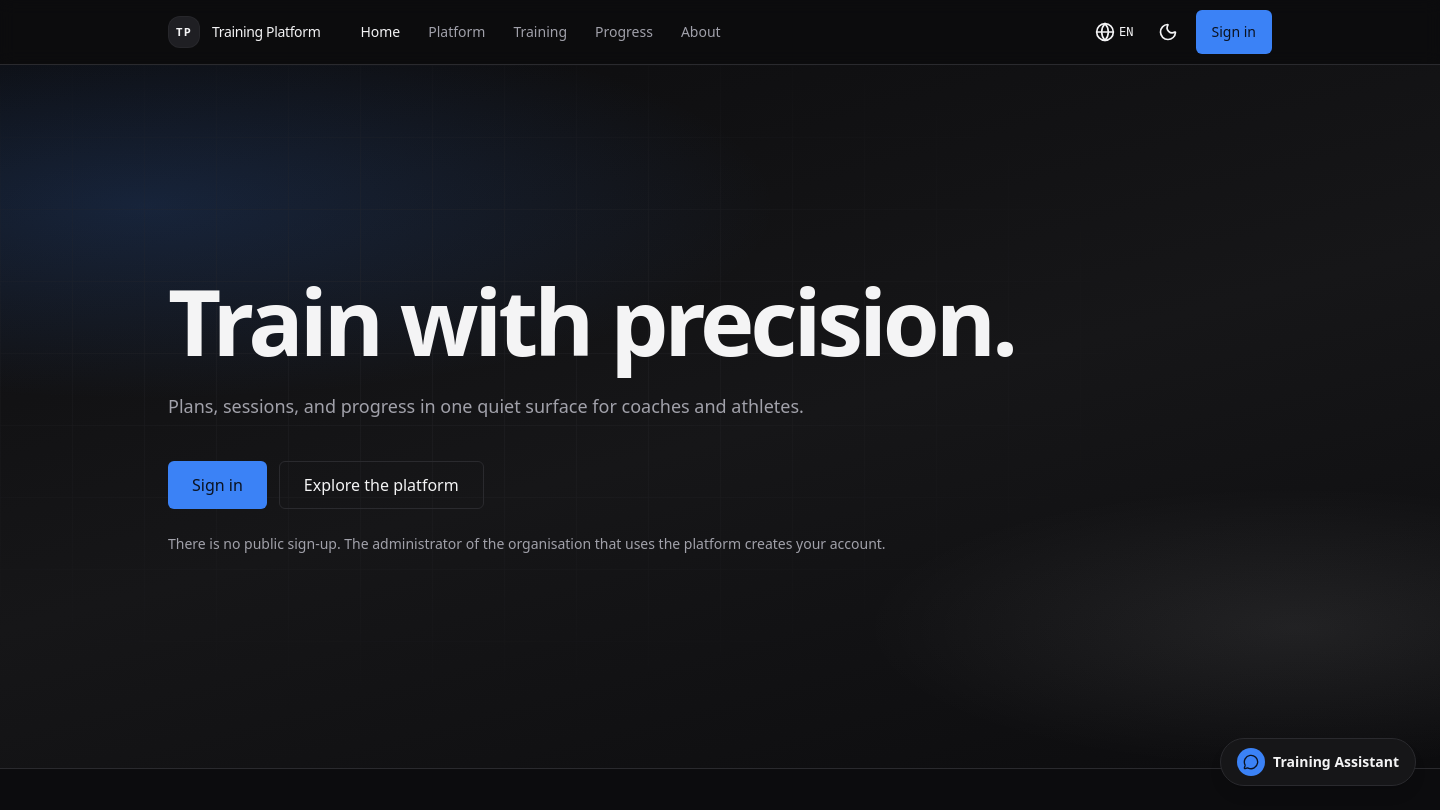
public website › navigates between public pages
The width and height of the screenshot is (1440, 810).
Expected: the heading "Train with precision." is shown, x1=168 y1=277 x2=1014 y2=364
Step 1. Click the link "About" → [701, 32], box x1=681 y1=22 x2=721 y2=41
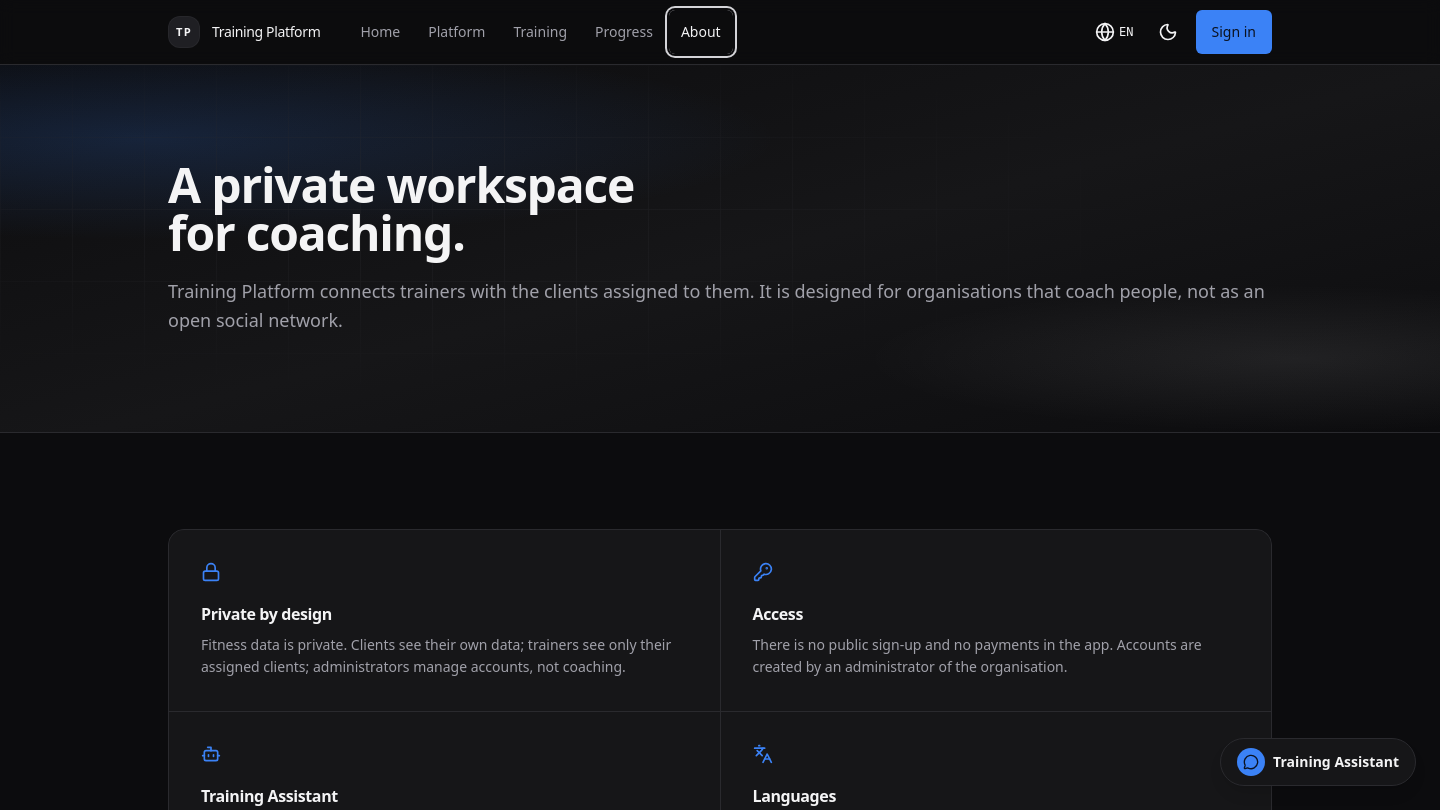
Expected: the heading "A private workspace for coaching." is shown, x1=168 y1=152 x2=634 y2=265
